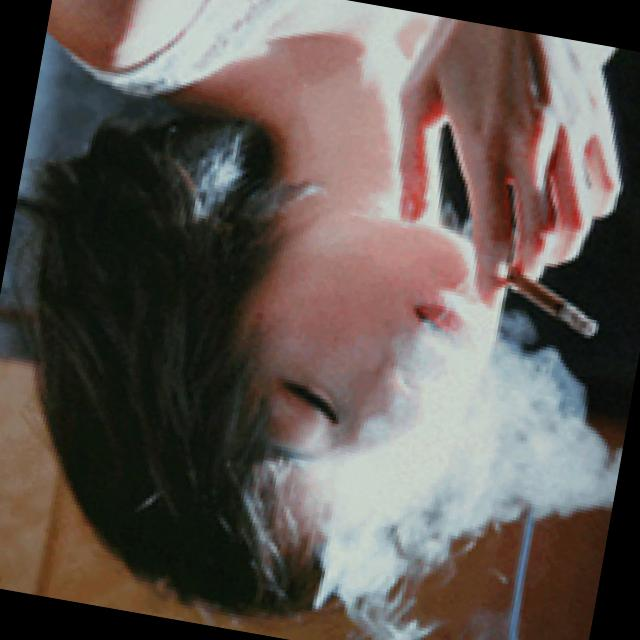smoke: (500, 260, 609, 338)
